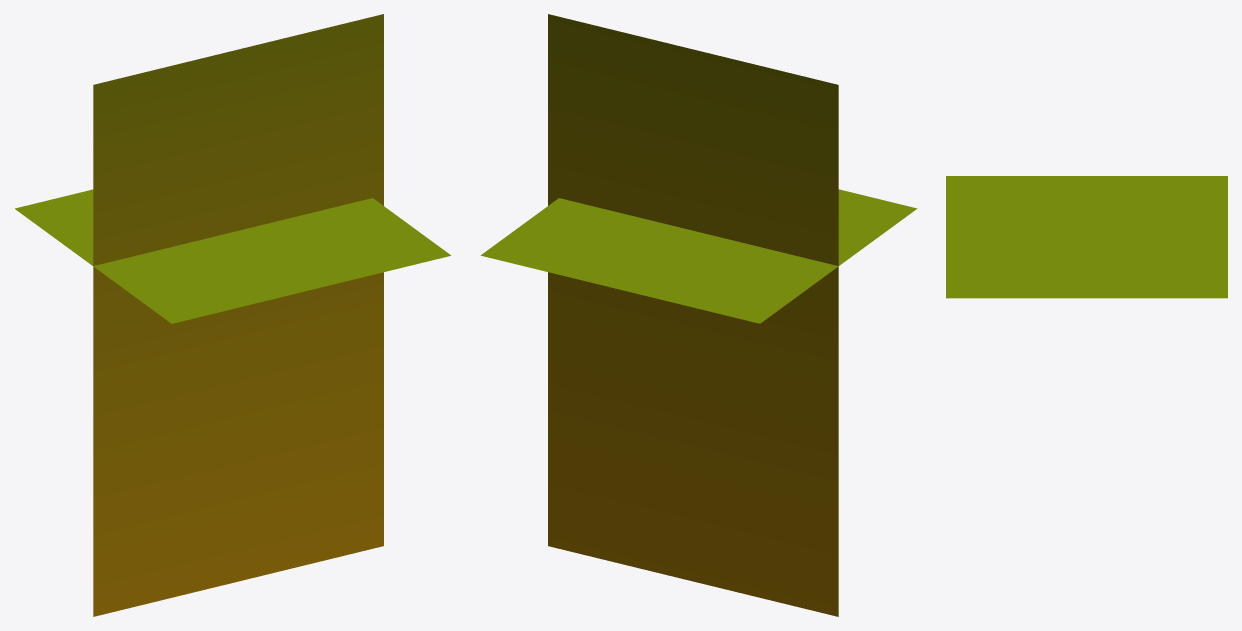
Rendered from Water Cabbage_LOD3_Var2_sjdlV.fbx.
The picture shows the model from 3 angles, left to right: view 1: azimuth 30°, elevation 25°; view 2: azimuth 150°, elevation 25°; view 3: azimuth 270°, elevation 25°; orthographic projection. The views are drawn at different scales.
Visible parts, largest first — view 1: _41ba_Var2_LOD3; view 2: _41ba_Var2_LOD3; view 3: _41ba_Var2_LOD3.
Part boxes in pixels (x1=…): _41ba_Var2_LOD3: x1=15, y1=14, x2=450, y2=616; _41ba_Var2_LOD3: x1=480, y1=14, x2=917, y2=616; _41ba_Var2_LOD3: x1=946, y1=176, x2=1227, y2=298.
Bounding box in the file's own units: 18.53 × 32.4 × 17.39.
